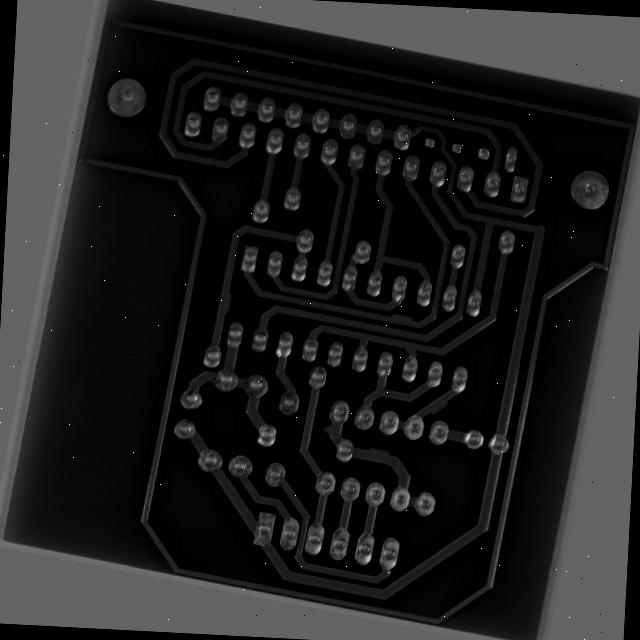spur: (385, 448, 425, 478), (449, 385, 482, 411), (394, 295, 426, 316), (335, 429, 362, 452), (202, 300, 220, 331)
